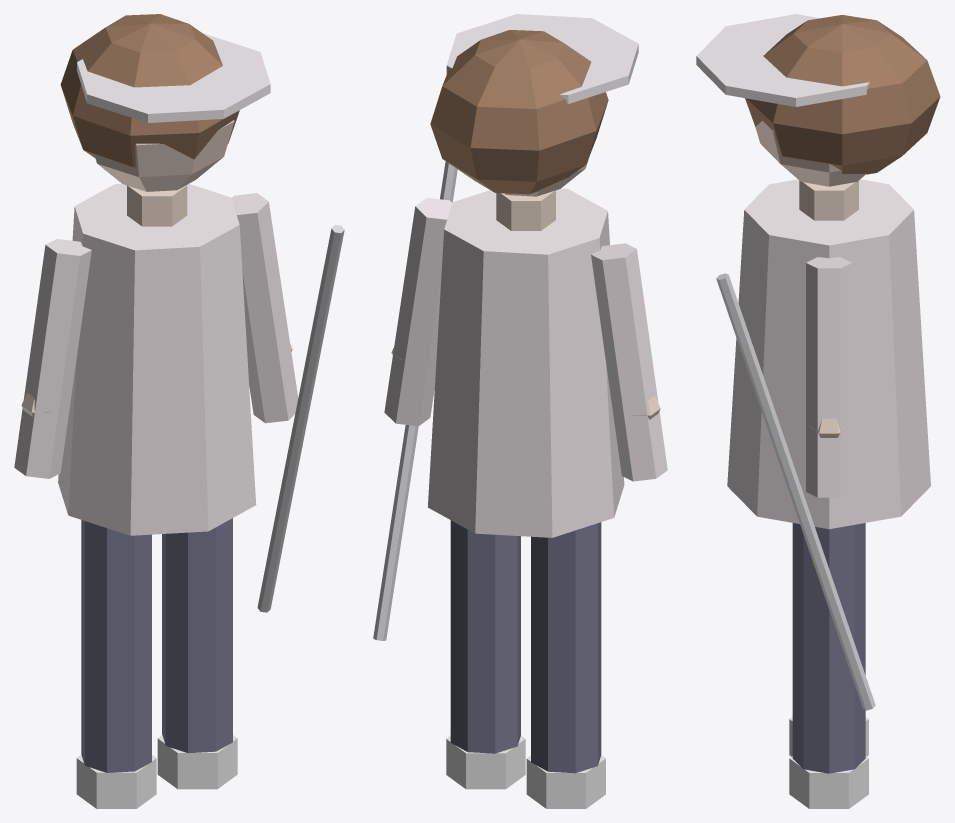
The model's file is golfer_female.glb.
The picture shows the model from 3 angles, left to right: view 1: azimuth 30°, elevation 25°; view 2: azimuth 150°, elevation 25°; view 3: azimuth 270°, elevation 25°; orthographic projection.
Visible parts, largest first — view 1: GolferFemale; view 2: GolferFemale; view 3: GolferFemale.
Boxes of the visible parts, box(x1,y1,x2,y2) form: GolferFemale: box(14, 14, 344, 808); GolferFemale: box(373, 14, 667, 808); GolferFemale: box(696, 14, 940, 808).
Size of the model in its own units: 0.4737 by 1.25 by 0.3678.
